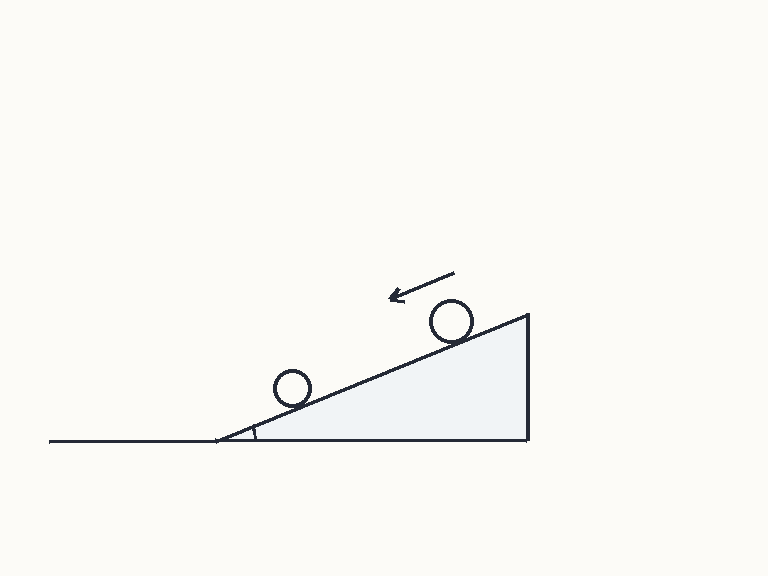ball: (427, 297, 475, 345), (271, 367, 313, 409)
ramp: (213, 312, 529, 442)
